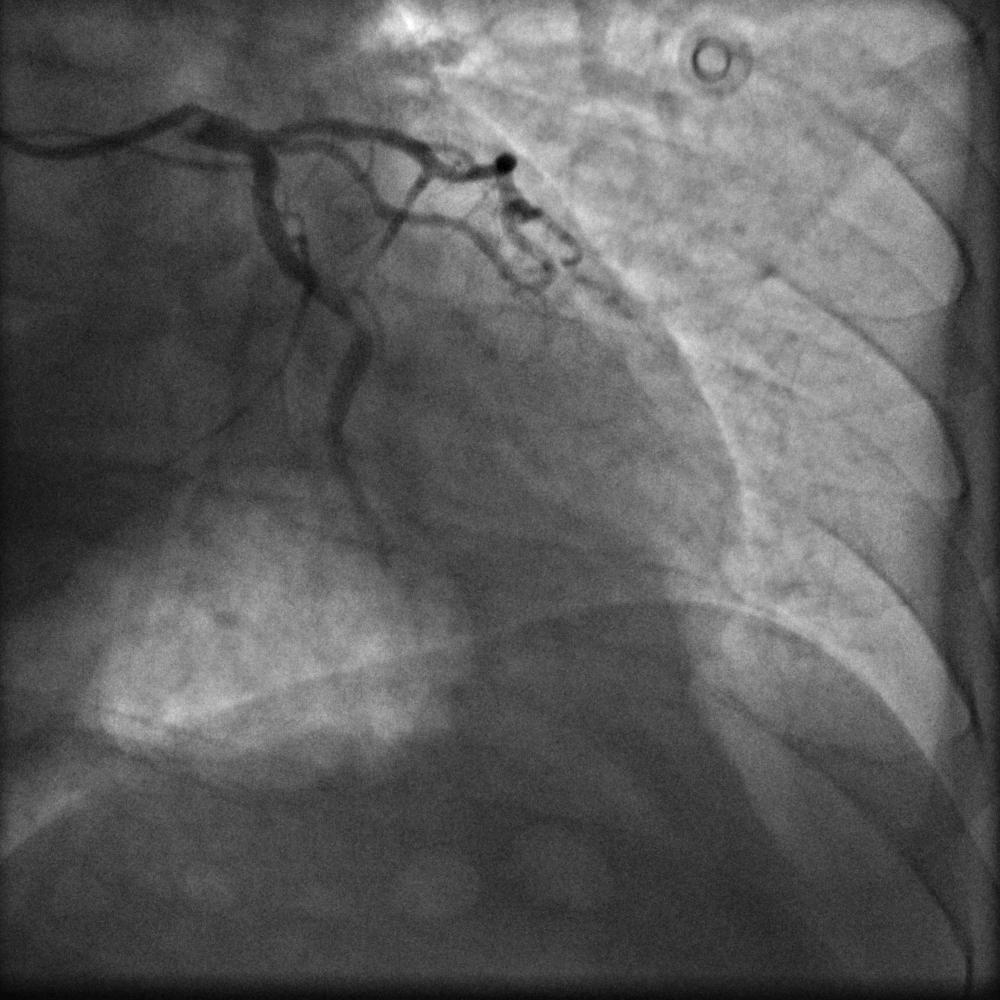Stenosis: (328, 299, 367, 353)
